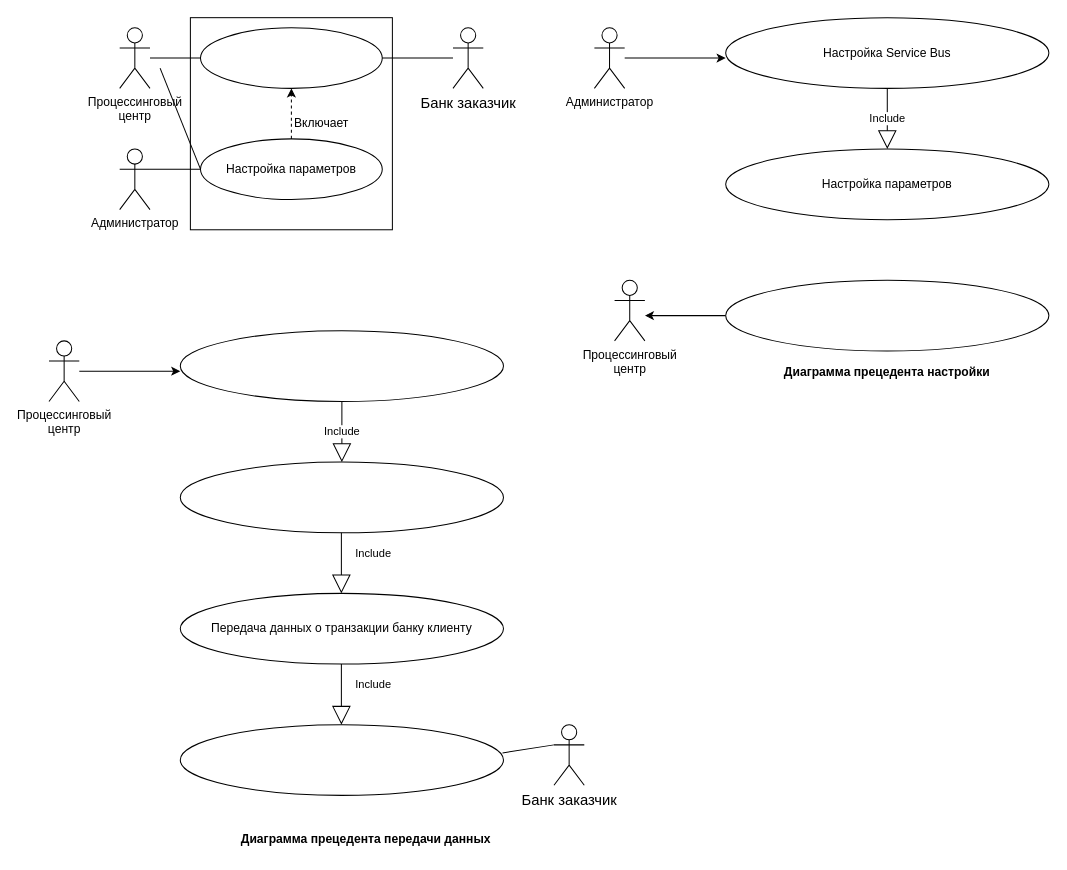
Image size: 1067x870. Some labels were removed from this diagram. Here are the shapes that lost their labels. From the top down, the centre of each, then its label:
point (290, 57): Передача данных о карточной продукции
point (887, 315): Использование настроек
point (341, 365): Исполнение транзакции
point (341, 497): Перехват нужной транзакции
point (341, 759): Обработка переданных данных и возврат результат
